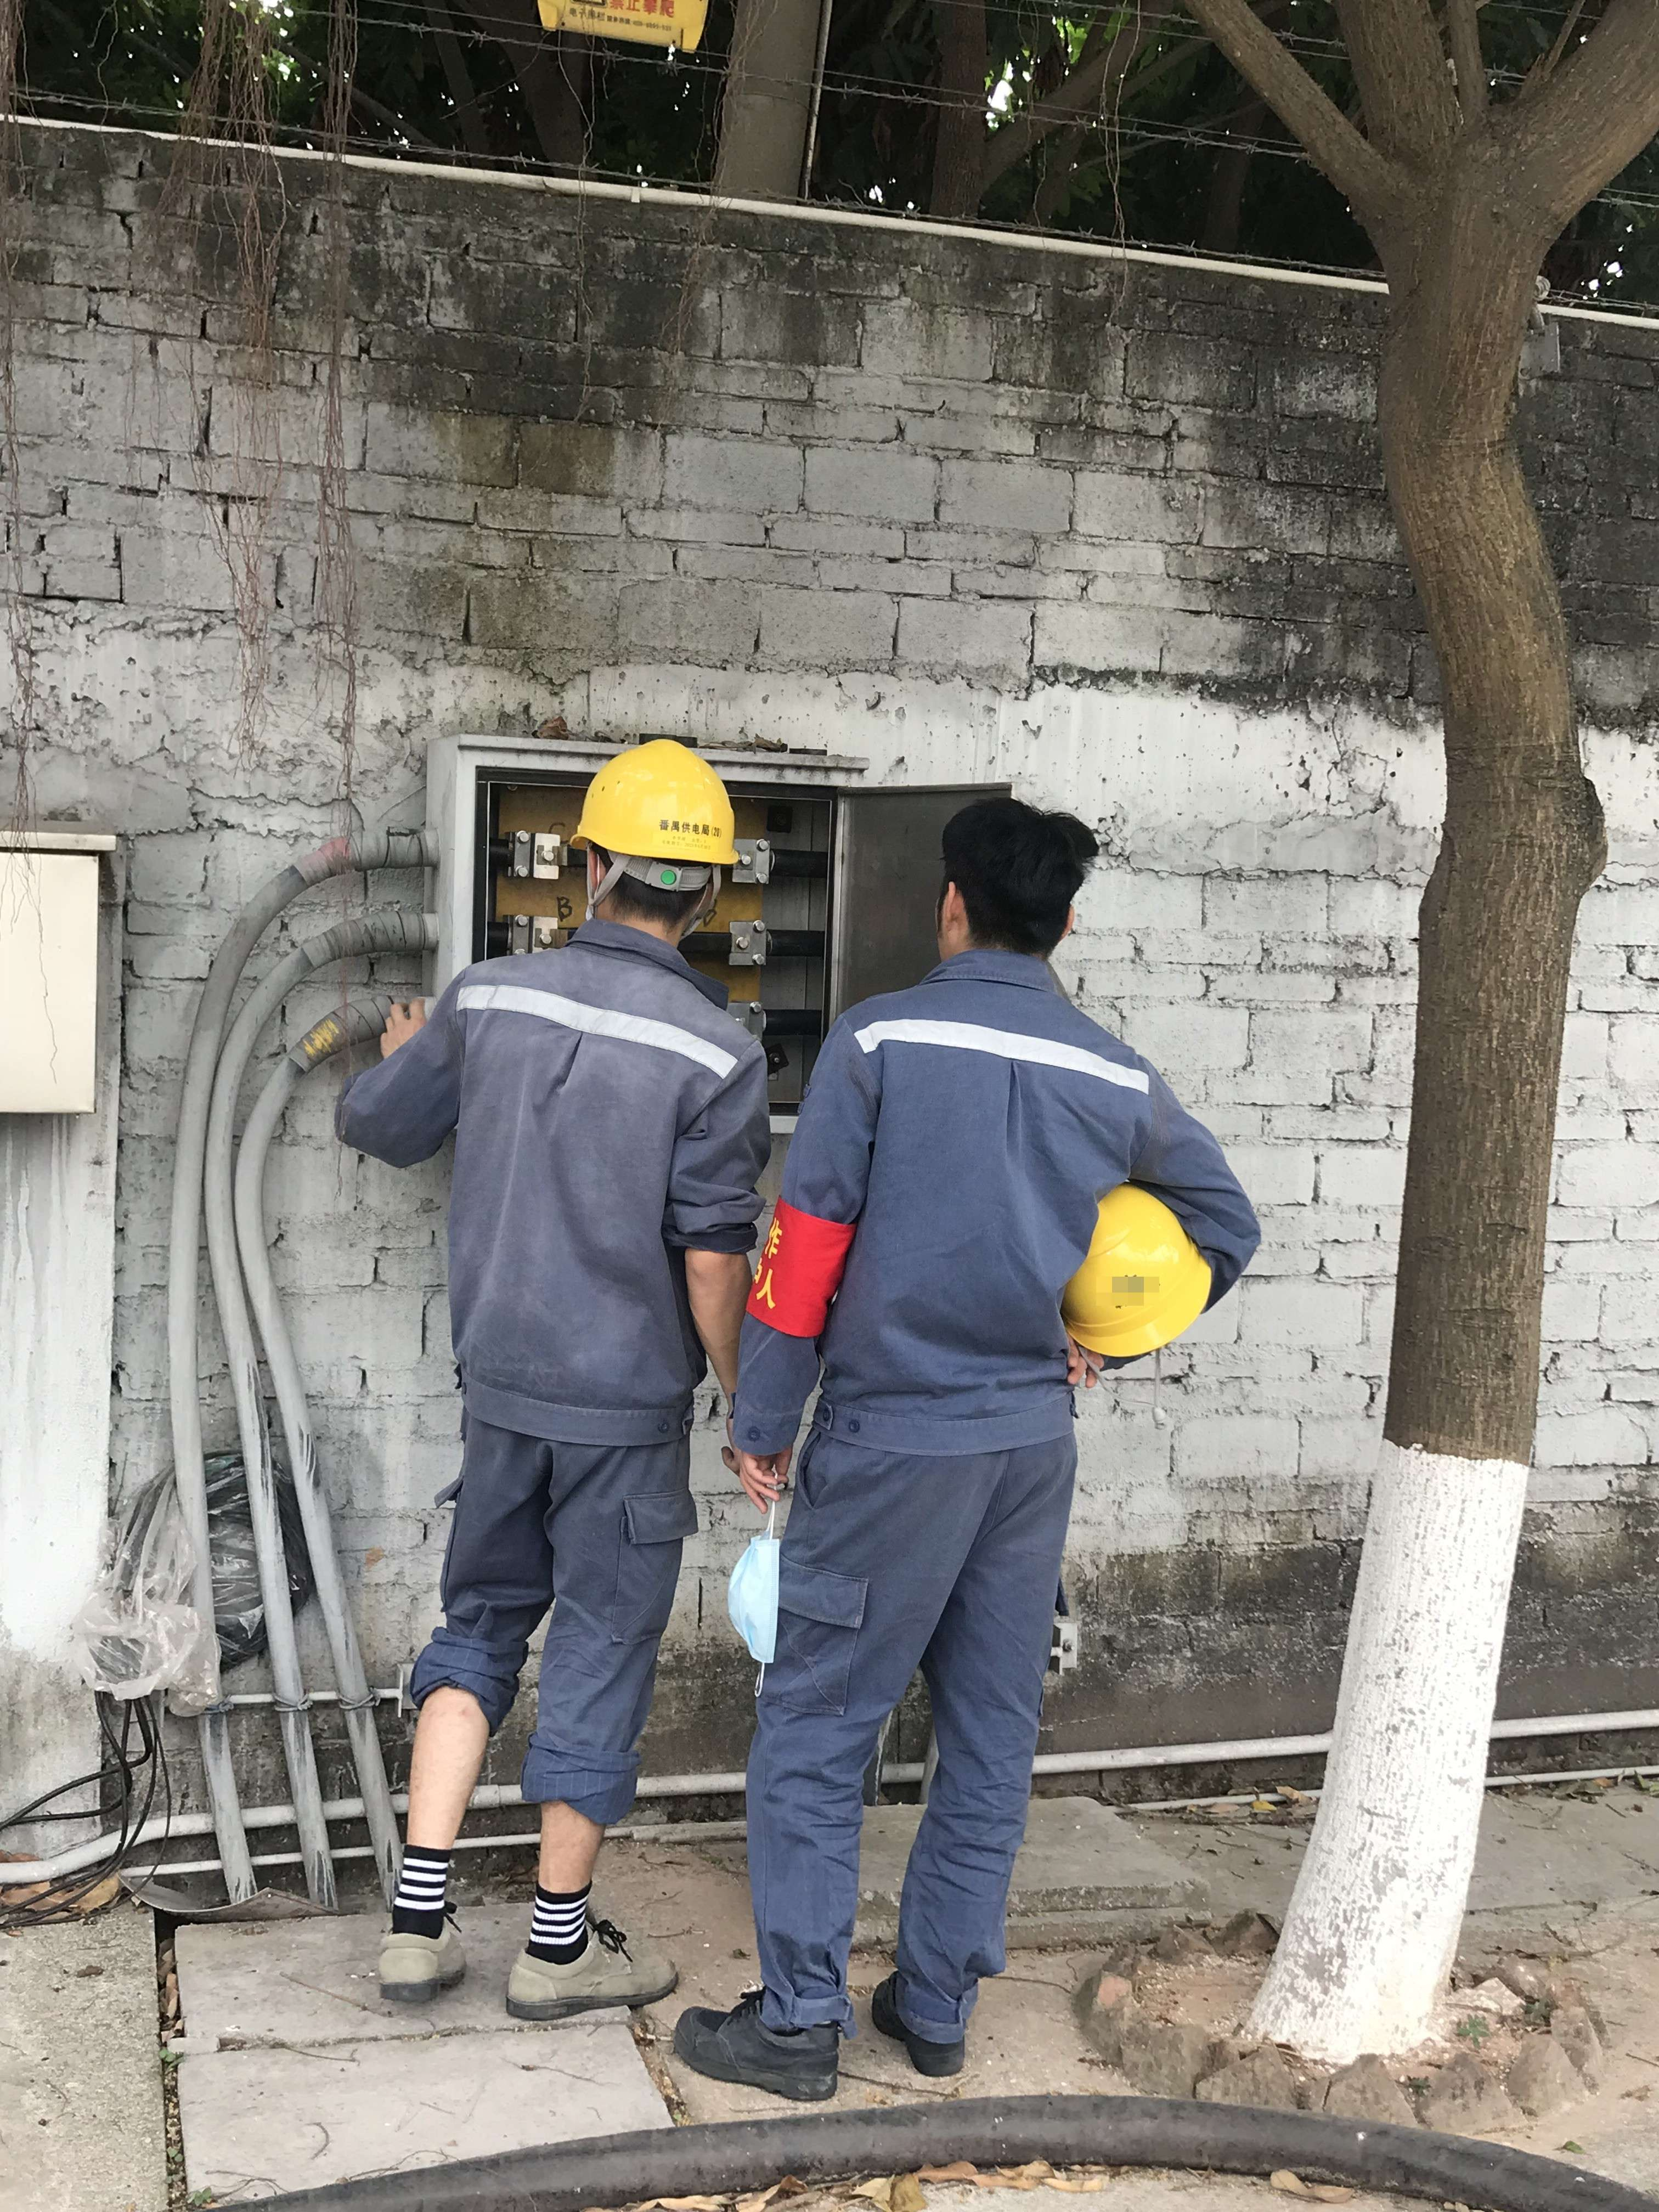downsuit: (728, 1470, 1079, 2033), (401, 1458, 697, 1832)
upsuit: (744, 948, 1263, 1454), (333, 925, 756, 1435)
wrongbottom: (392, 1646, 511, 1878), (514, 1730, 641, 1909)
wrongtop: (671, 1207, 758, 1397)
